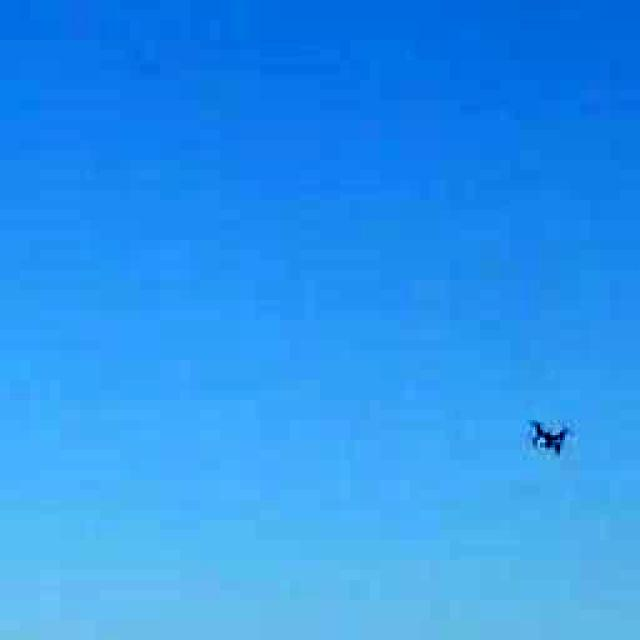bird: (495, 398, 602, 468)
